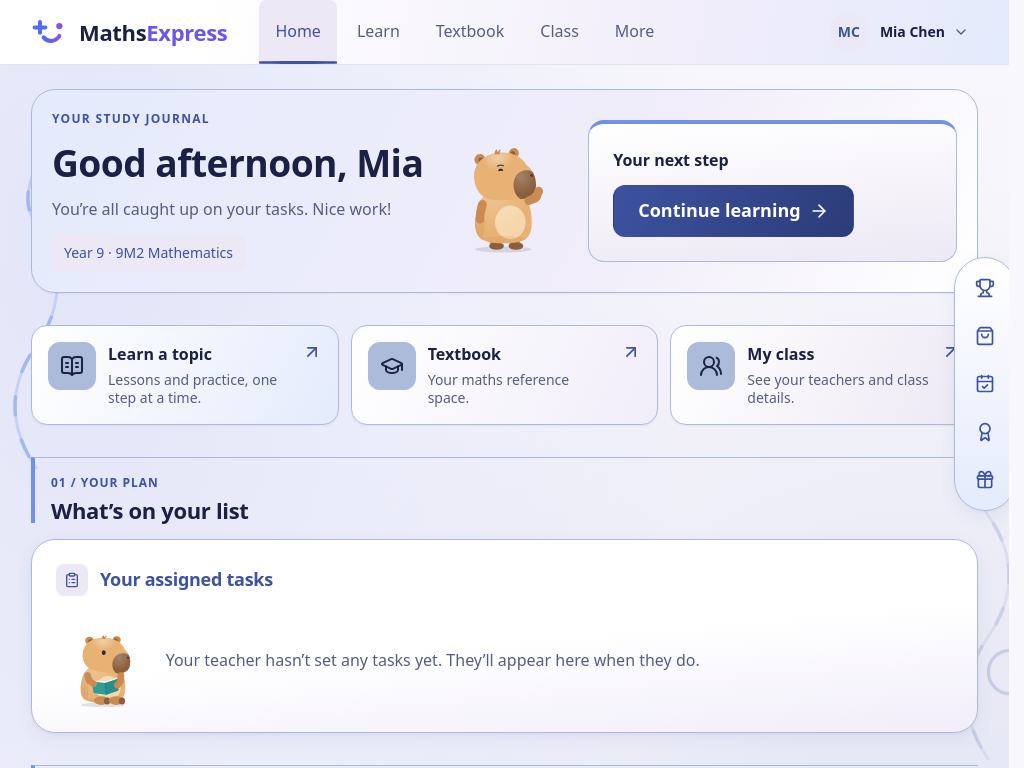
Test: student quick tools › opens the real wallet preview and links to the working shop
Click the button named "Shop": {"x": 985, "y": 336} [963,314,1007,358]
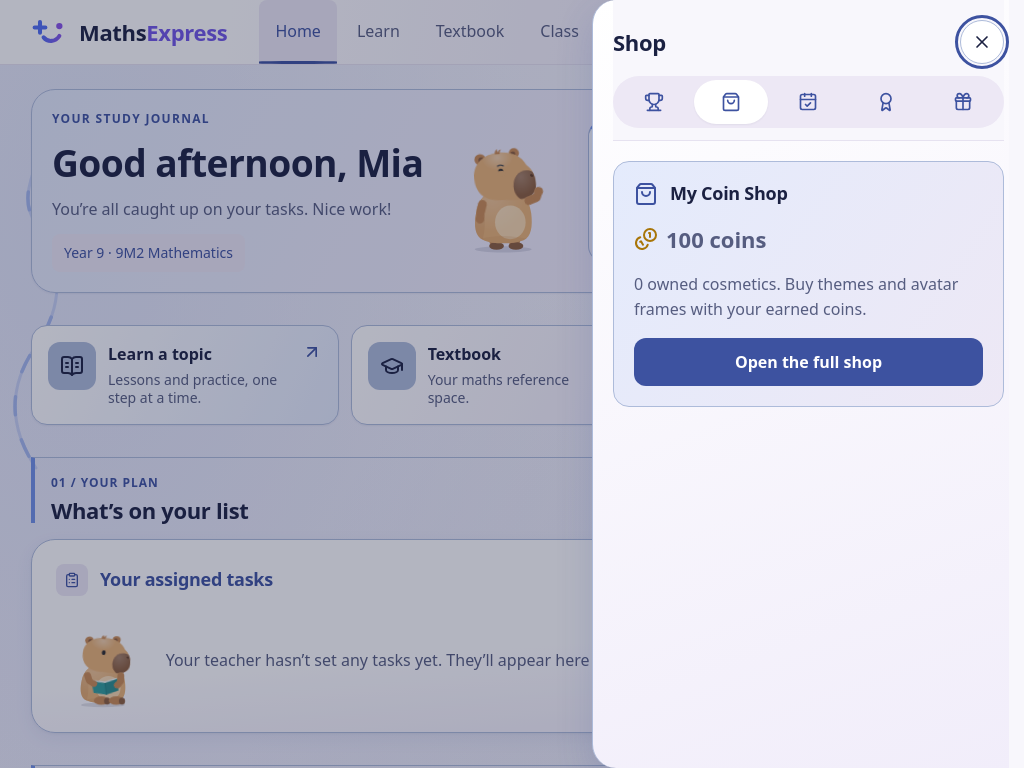
Expected: the dialog "Shop" does not show "Sample data", [592,0,1023,767]
Expected: the text "100 coins" is shown, [634,224,766,254]
